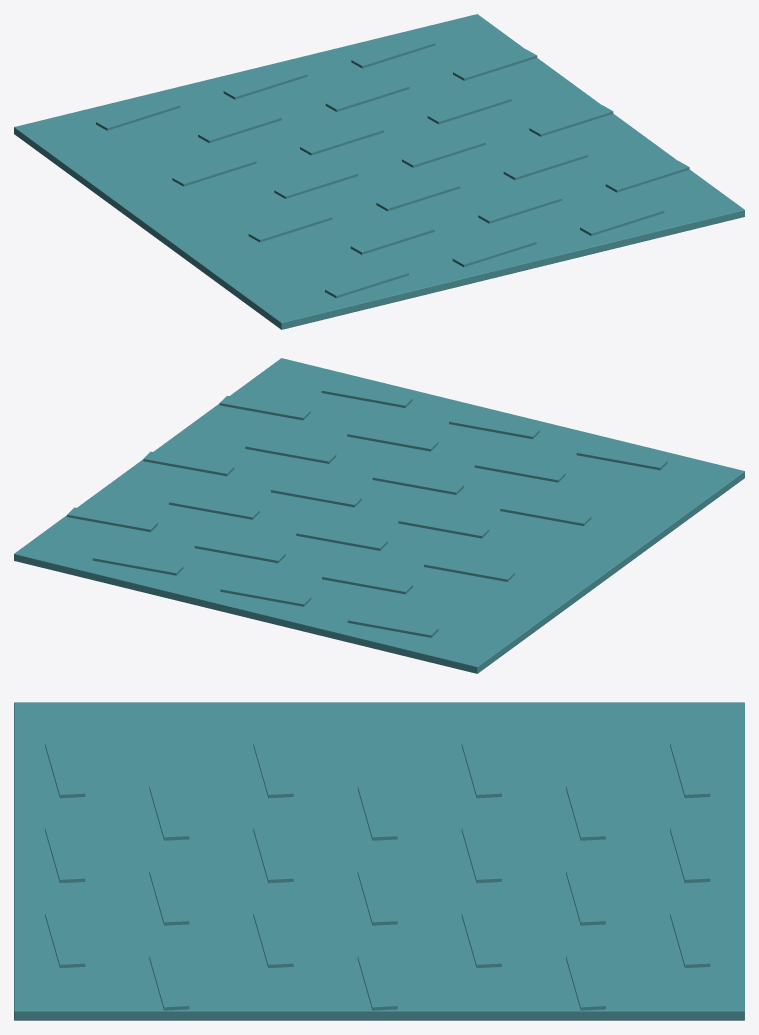
Rendered from sea.glb.
3 renders of one model, top to bottom at view 1: azimuth 30°, elevation 25°; view 2: azimuth 150°, elevation 25°; view 3: azimuth 270°, elevation 25°, orthographic. The views are drawn at different scales.
Parts seen in each view (by area): view 1: sea-water-module; view 2: sea-water-module; view 3: sea-water-module.
Boxes of the visible parts, x1=… form: sea-water-module: x1=14, y1=14, x2=744, y2=329; sea-water-module: x1=14, y1=358, x2=744, y2=673; sea-water-module: x1=14, y1=702, x2=744, y2=1020.
Bounding box in the file's own units: 4 × 0.0801 × 4.
